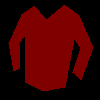abbigliamento_uomo: (8, 4, 93, 91)
